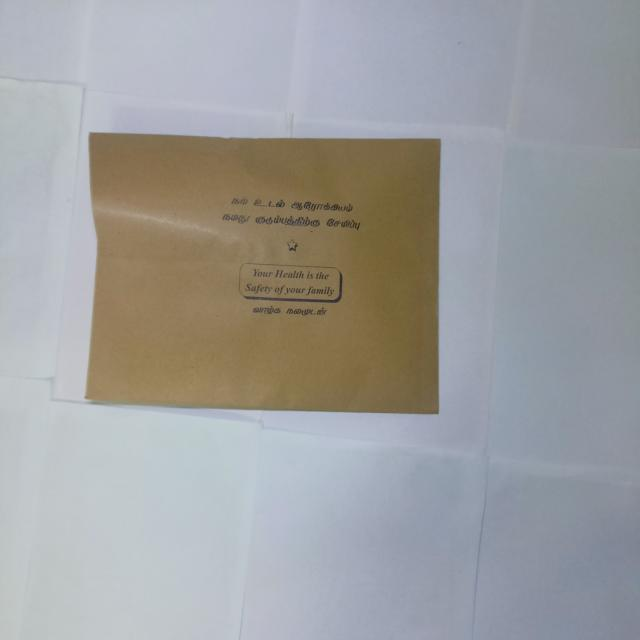box: (89, 136, 443, 412)
